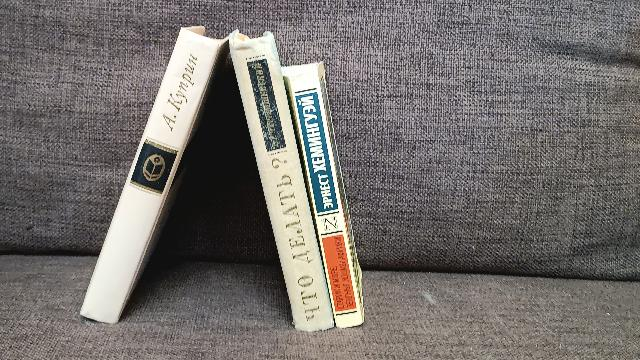book-s-spine: (80, 27, 220, 324), (229, 35, 334, 336), (290, 72, 363, 330)
